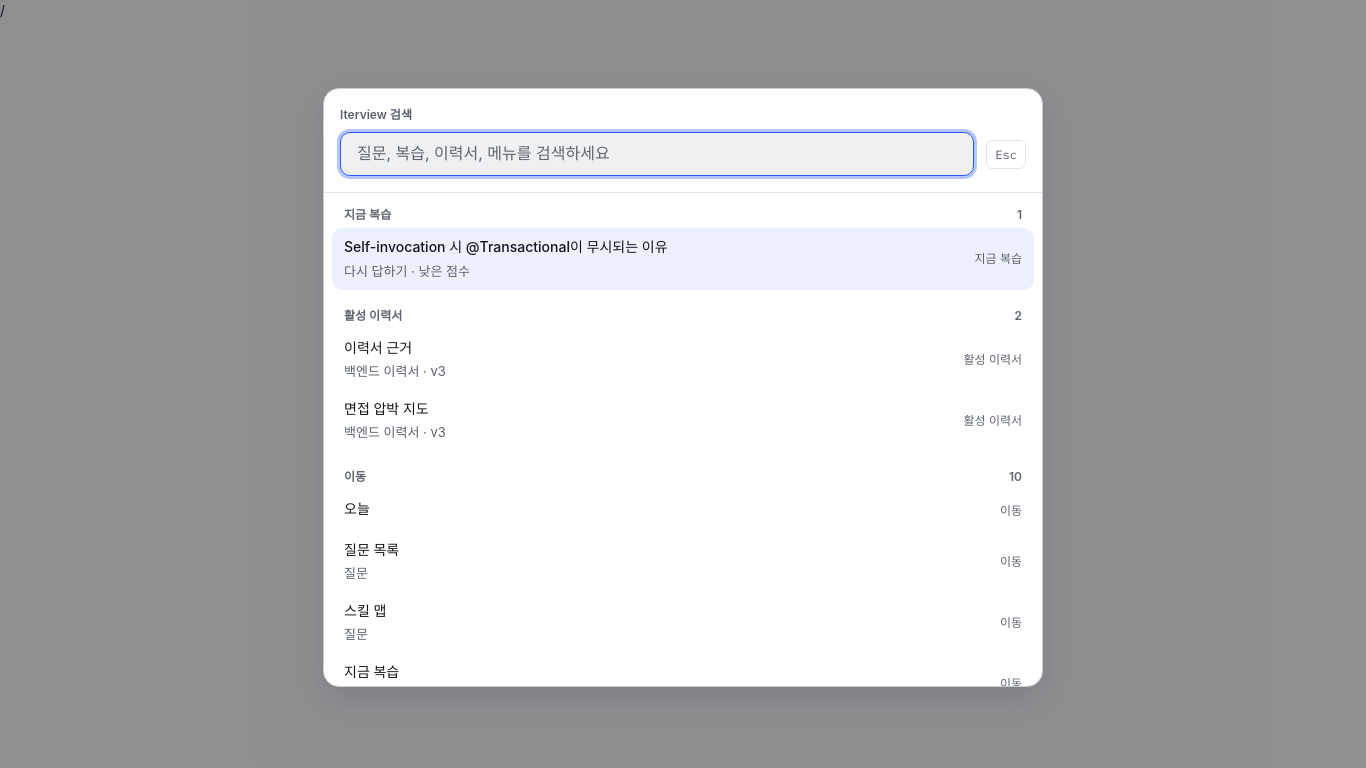
Test: CommandPalette › searches questions on the server and lists them first
The width and height of the screenshot is (1366, 768).
In the dropdown labelled "Iterview 검색": (657, 154) [340, 132, 974, 176], type "트랜잭션"
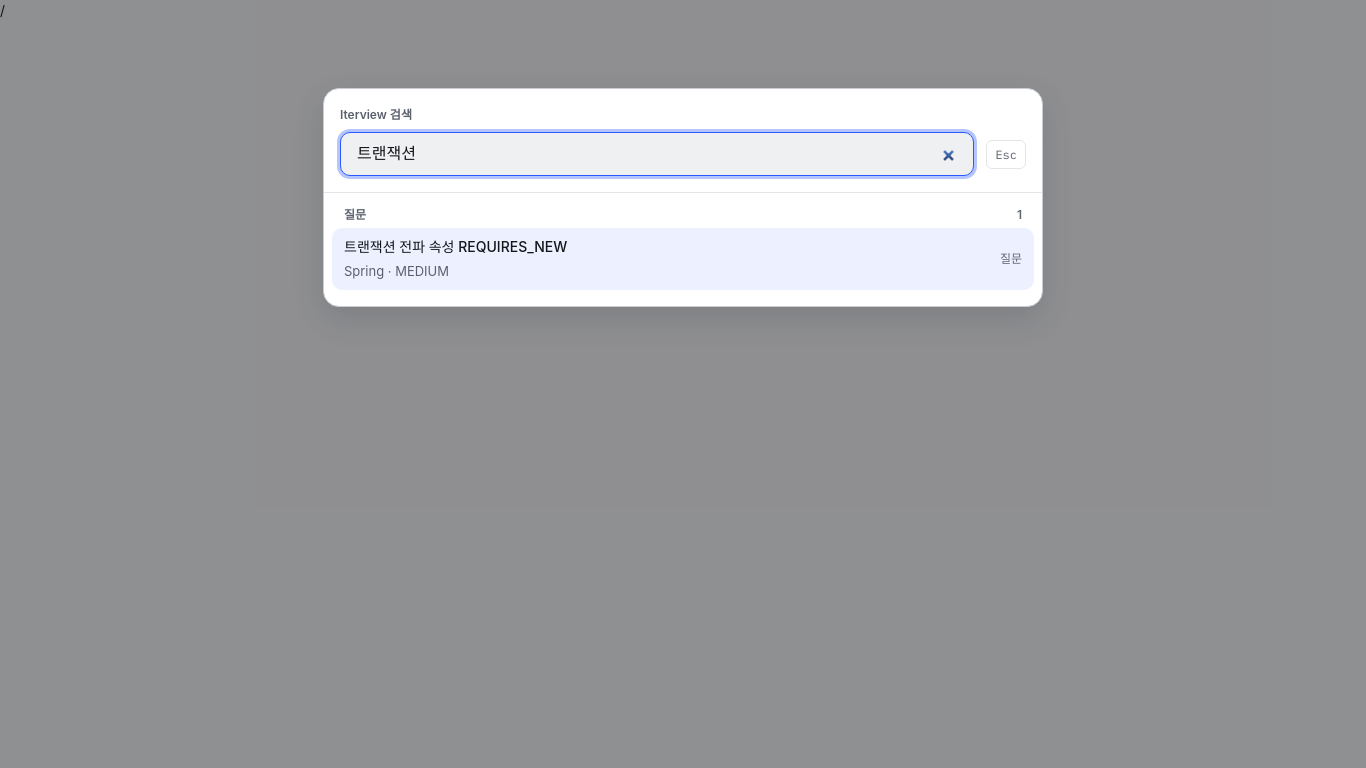
Now the element "질문" shows "트랜잭션 전파 속성 REQUIRES_NEW", box [332, 228, 1034, 290]
